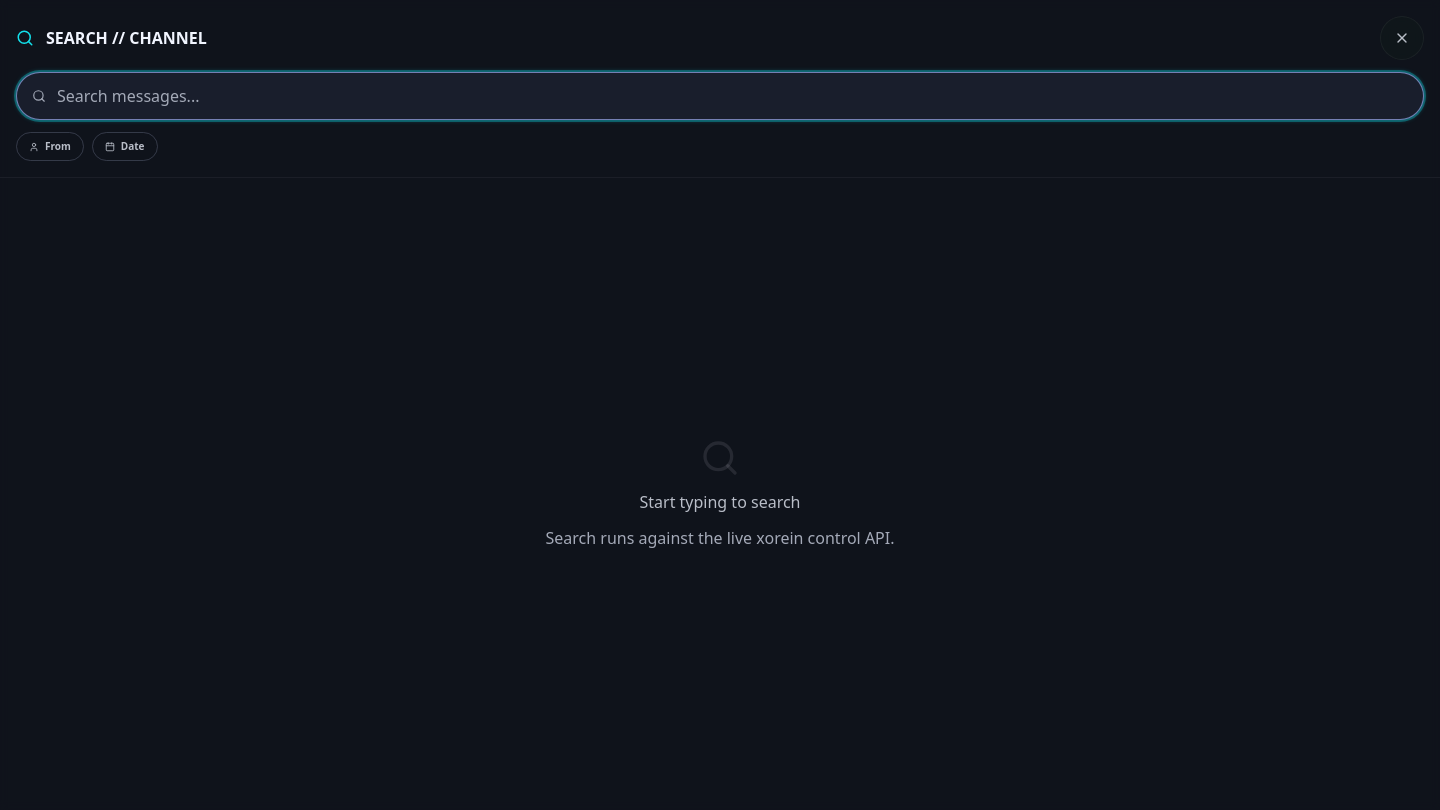
Test case: SearchPanel › normalizes malformed user records before rendering search filters and results
The width and height of the screenshot is (1440, 810).
Type "runtime" into the field with placeholder "Search messages...".
click(720, 96); type("runtime")  # box [16,72,1424,120]
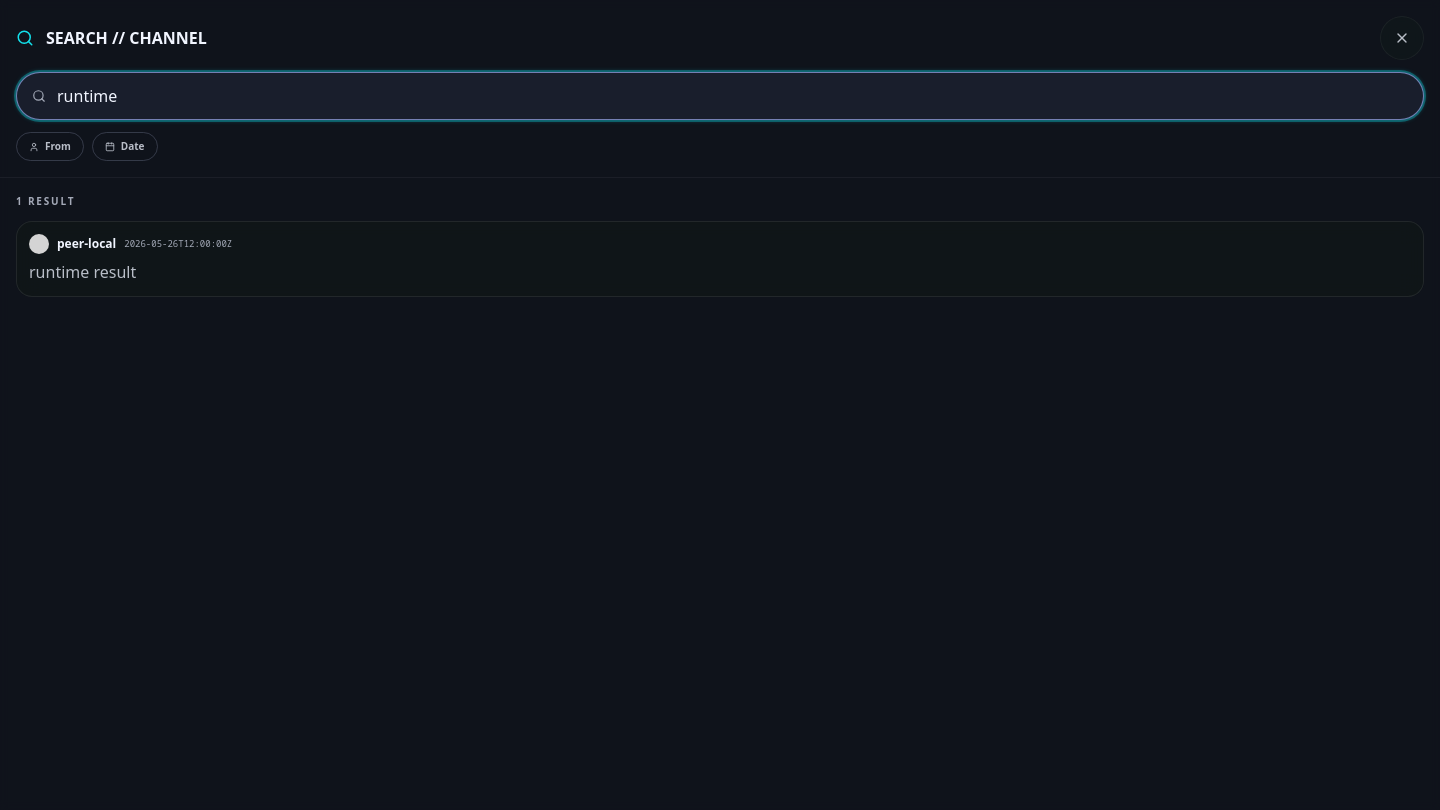
Click the button "From".
click(50, 146)  # box [16,132,84,161]
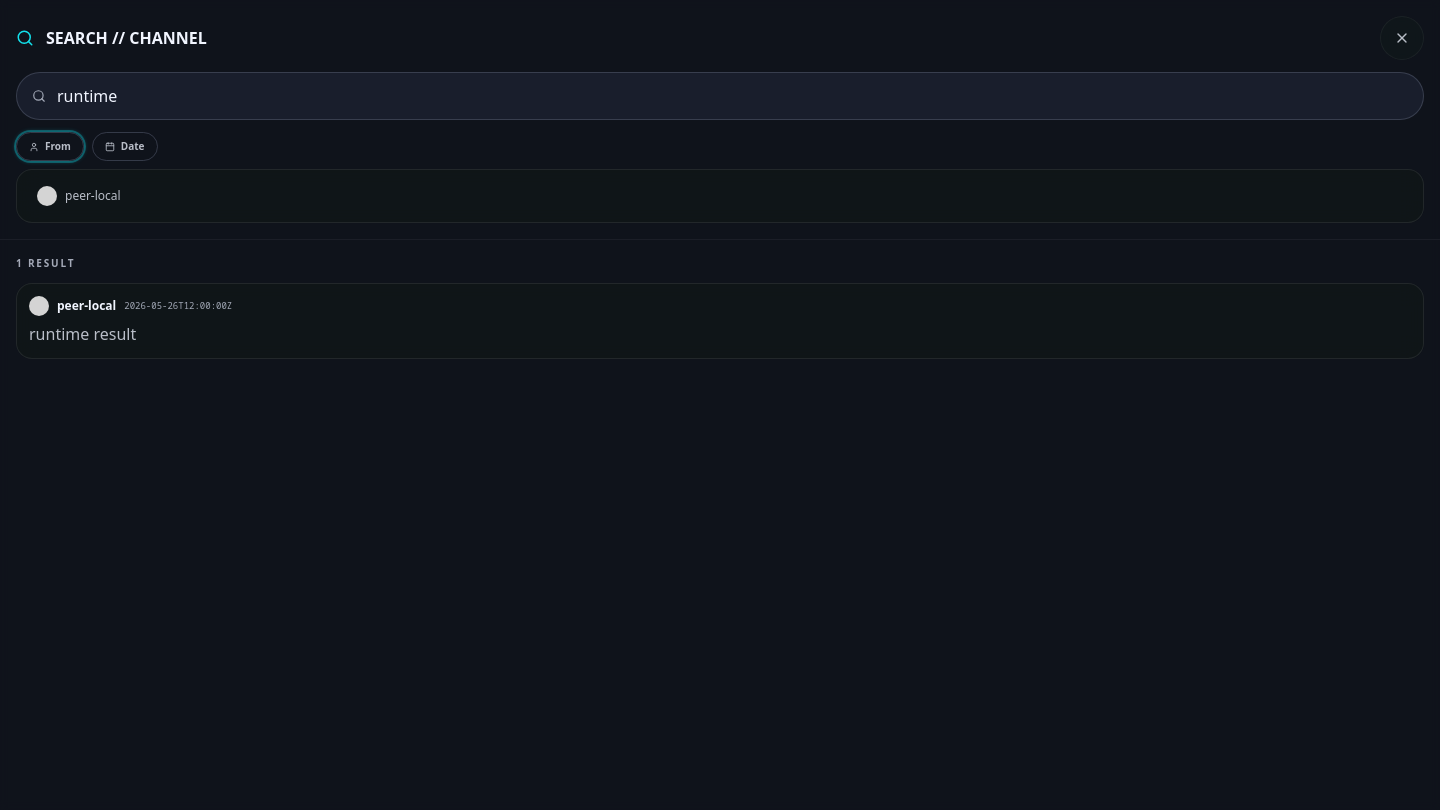
Expected: the text "runtime result" is shown, [29,323,136,345]
Expected: the number of buttons "peer-local" is 2, [25,178,1415,214]; [57,298,116,314]
